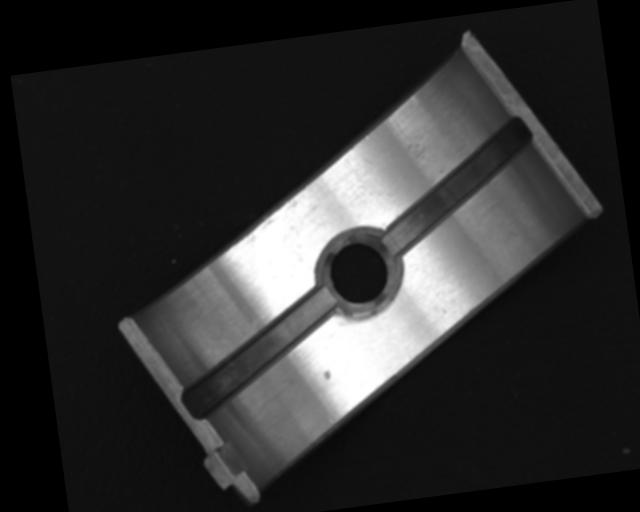bruise: (322, 370, 333, 382)
gap: (370, 116, 545, 256), (170, 284, 346, 420)
hole: (321, 228, 401, 318)
